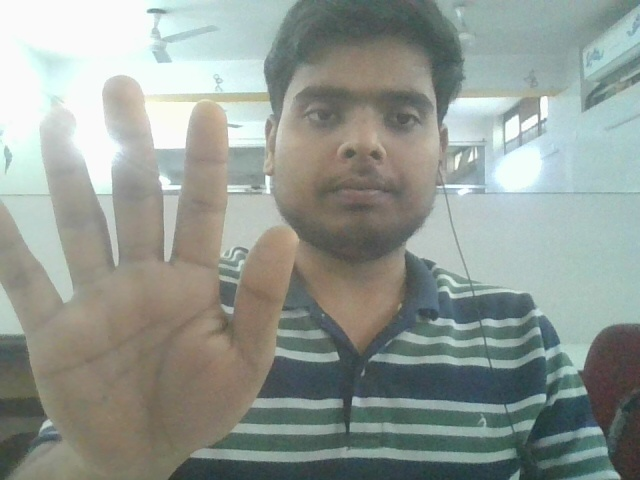Hello: (2, 73, 326, 473)
